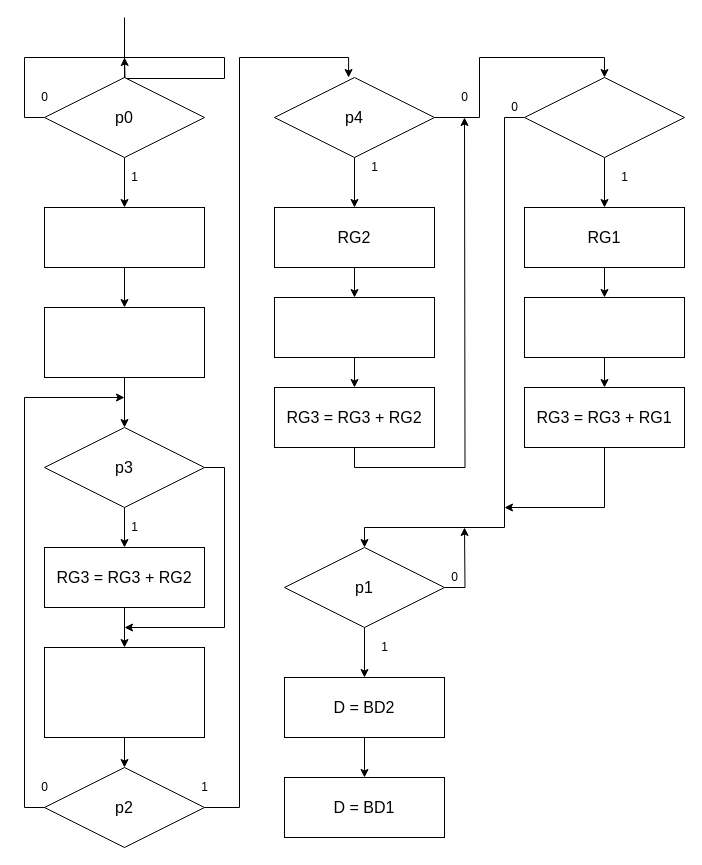
The diagram is 702 pixels wide and 865 high, and some of its shapes have lost their labels. The shapes that lost their labels are listed below. From the top down, each one's centre as x and y in pixels, then its label:
At point 604,117: "p5".
At point 124,237: "RG1 = D1".
At point 124,342: "RG2 = D2 RG3 = 0 CT1 = 0001".
At point 354,327: "RG2 = -RG2".
At point 604,327: "RG1 = -RG1".
At point 124,692: "RG1 вправо RG2 вправо RG4 вправо CT1 = CT1 + 1".
